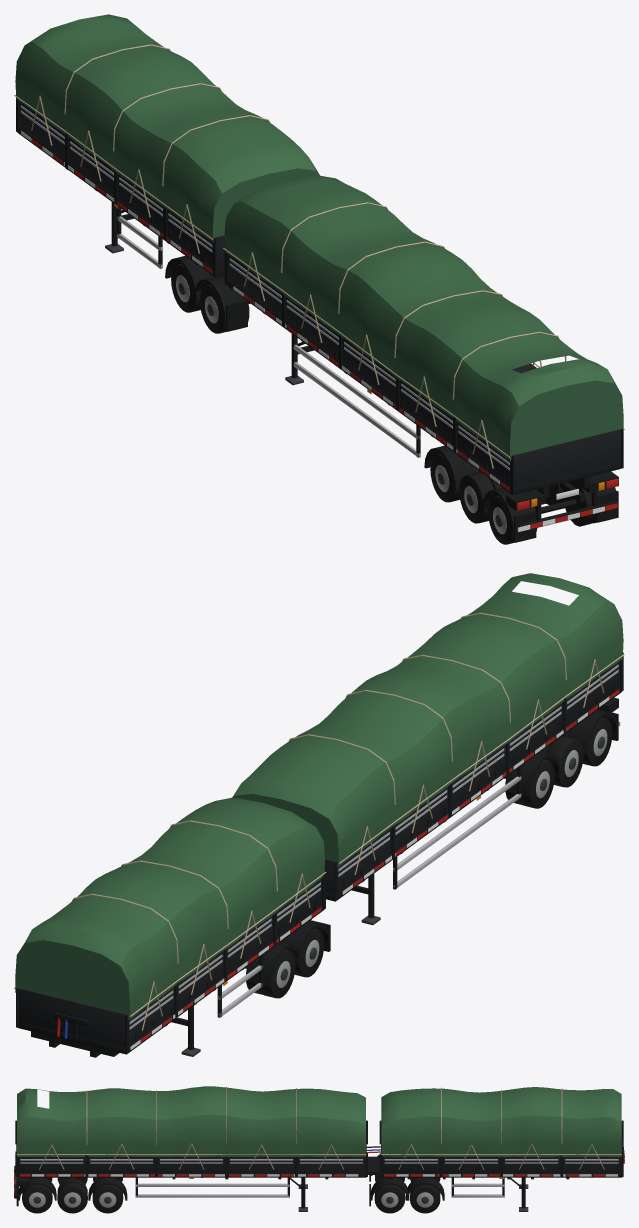
File: bitrem-reboques.glb
3 views of the same model, one above another, from view 1: azimuth 30°, elevation 25°; view 2: azimuth 150°, elevation 25°; view 3: azimuth 270°, elevation 25° (orthographic). The views are drawn at different scales.
Parts seen in each view (by area): view 1: corpo; view 2: corpo; view 3: corpo.
Part boxes in pixels (x1,y1,x2,y2): corpo: (14,14,624,544); corpo: (14,573,624,1057); corpo: (14,1086,624,1213).
Bounding box in the file's own units: 2.81 × 3.95 × 20.79.
Materials: 1 (1 with a texture image).
